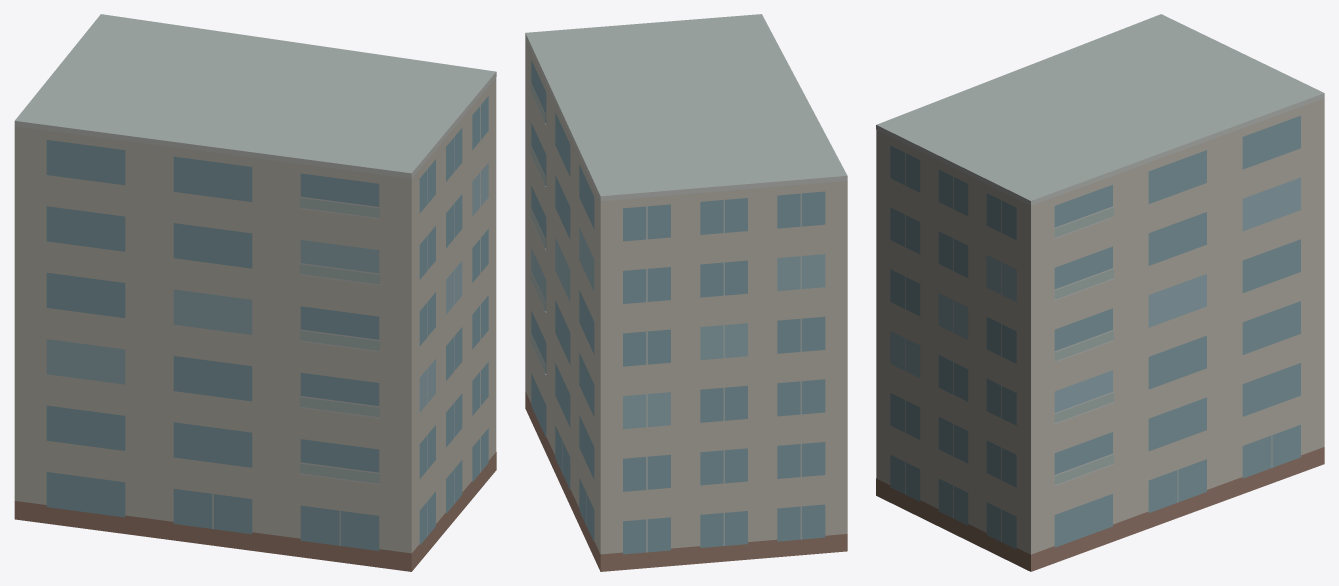
The model's file is survey-upis-32776645.glb.
3 views of the same model, side by side, from view 1: azimuth 30°, elevation 25°; view 2: azimuth 150°, elevation 25°; view 3: azimuth 270°, elevation 25° (orthographic). The views are drawn at different scales.
Parts seen in each view (by area): view 1: survey-upis-32776645.tmp; view 2: survey-upis-32776645.tmp; view 3: survey-upis-32776645.tmp.
Boxes of the visible parts, box(x1,y1,x2,y2) form: survey-upis-32776645.tmp: box(14, 14, 496, 571); survey-upis-32776645.tmp: box(525, 14, 847, 571); survey-upis-32776645.tmp: box(876, 14, 1324, 571).
Size of the model in its own units: 19.8 by 18.3 by 20.06.
